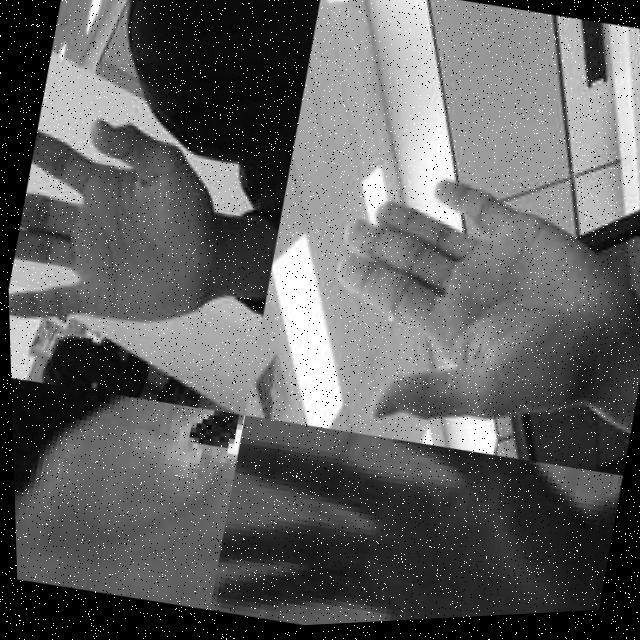no-gloves: (297, 151, 640, 484), (201, 402, 614, 632), (2, 94, 244, 357), (8, 372, 246, 620)
